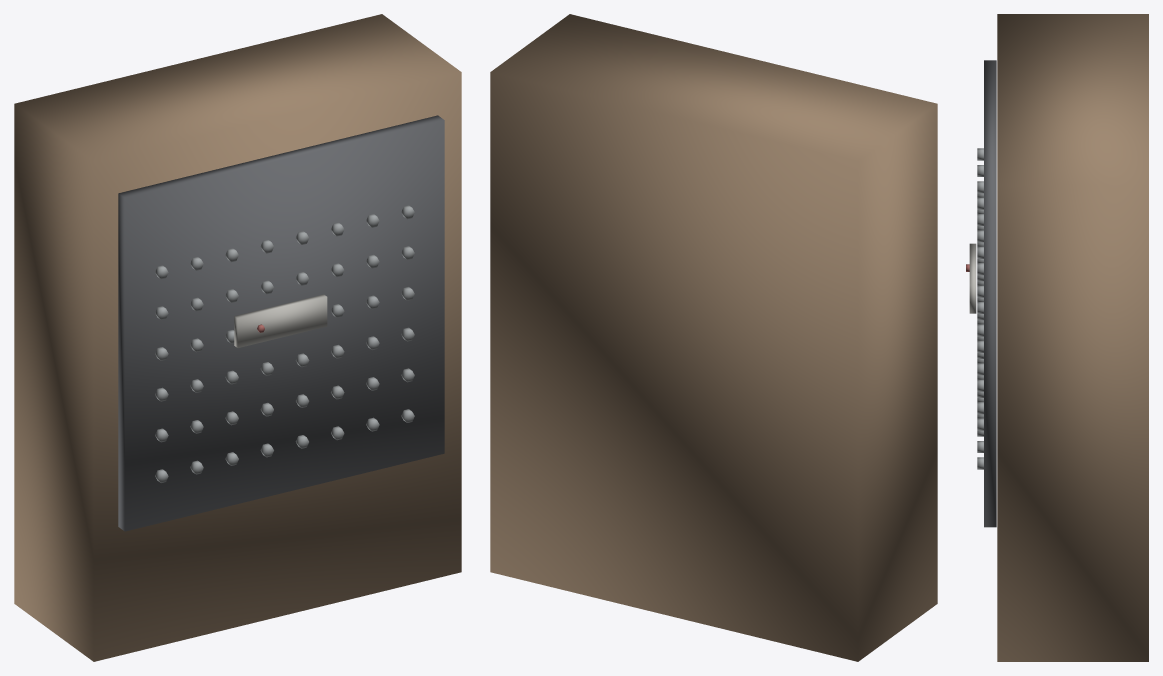
Rendered from telephone_switchboard__compact.glb.
The picture shows the model from 3 angles, left to right: view 1: azimuth 30°, elevation 25°; view 2: azimuth 150°, elevation 25°; view 3: azimuth 270°, elevation 25°; orthographic projection. The views are drawn at different scales.
Visible parts, largest first — view 1: world; view 2: world; view 3: world.
Boxes of the visible parts, x1,y1,x2,y2 form: world: (14, 14, 461, 661); world: (490, 14, 937, 661); world: (966, 14, 1148, 661).
Size of the model in its own units: 0.966 by 1.26 by 0.436.
